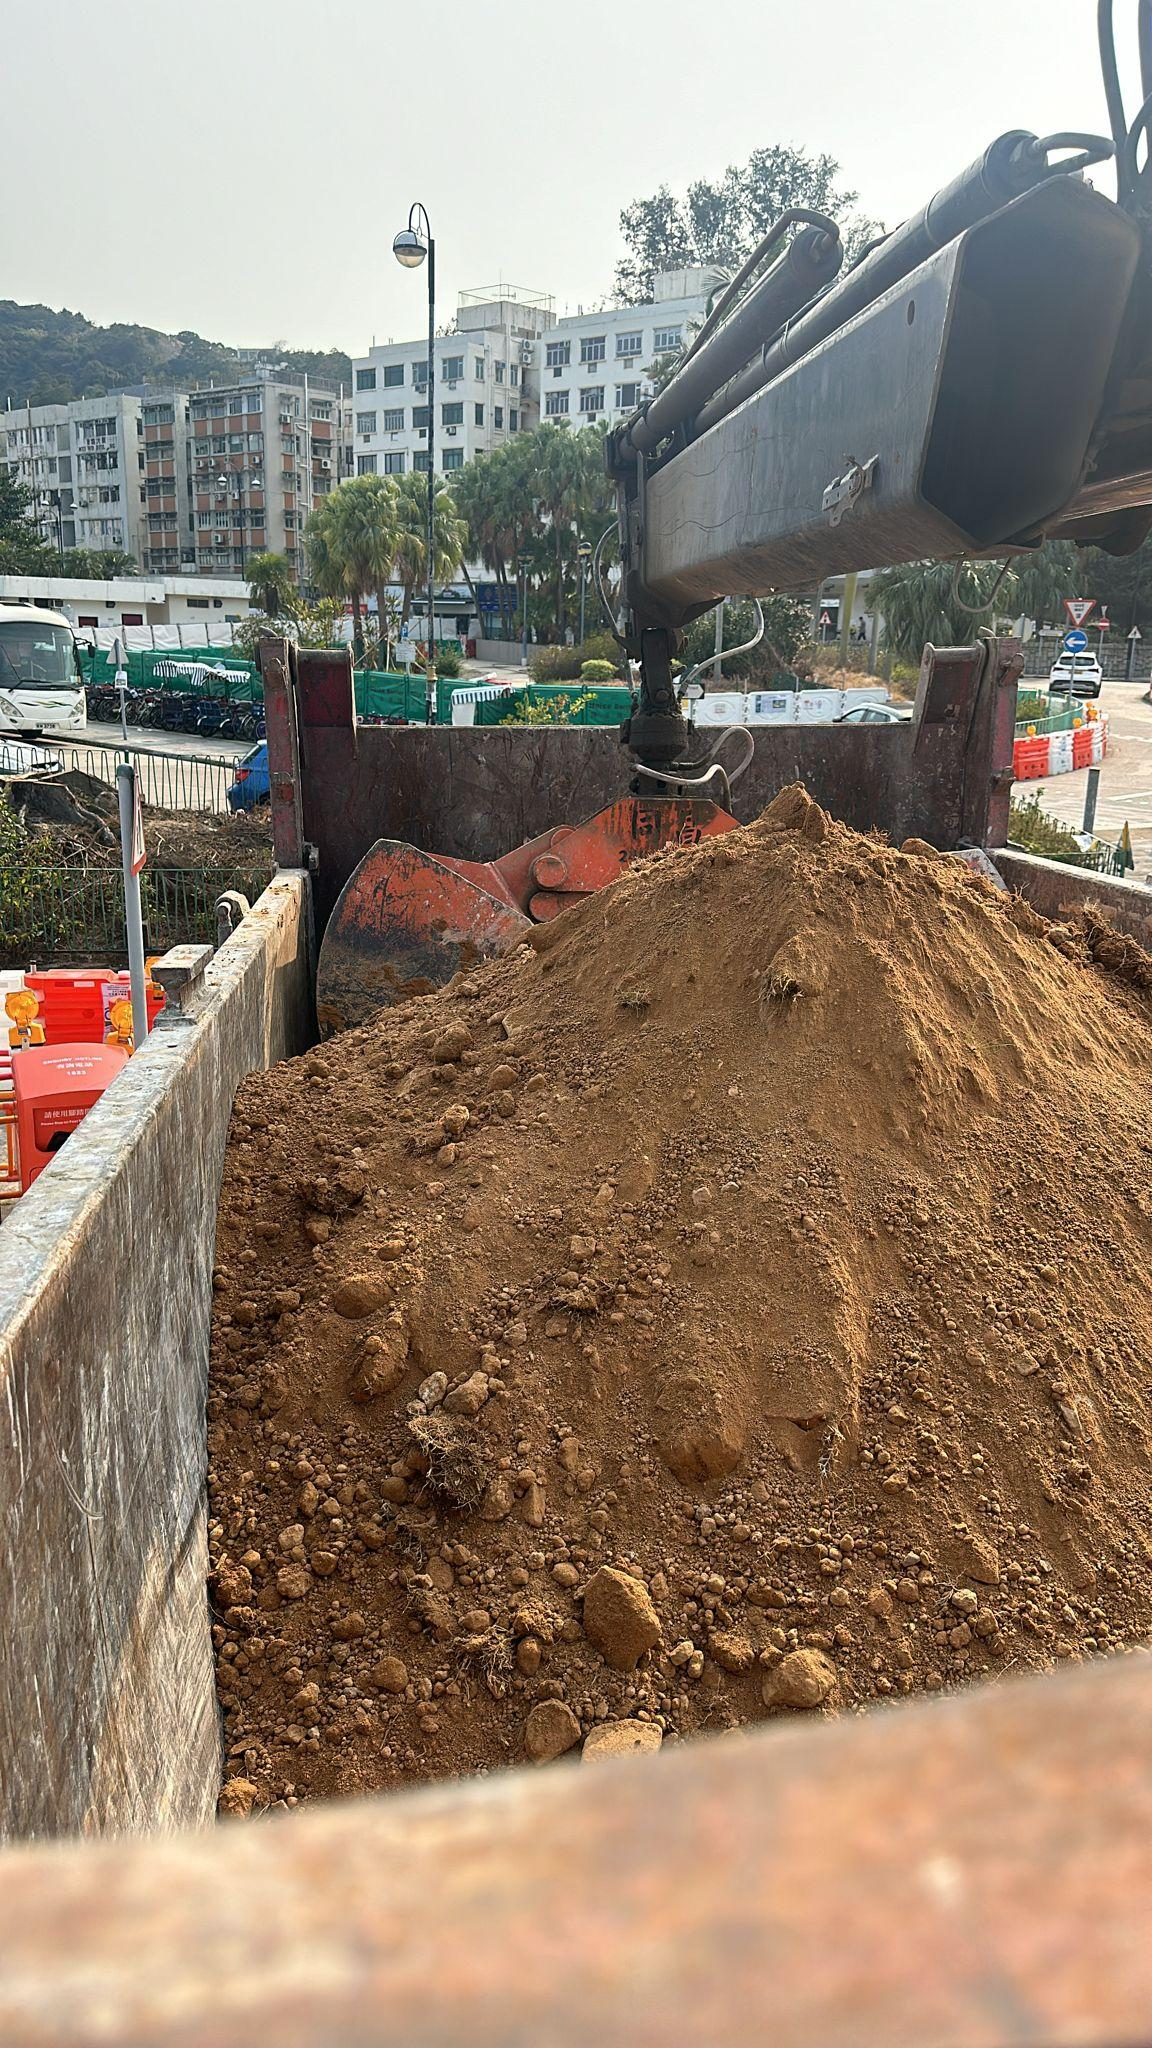dry: (233, 790, 1150, 1813)
